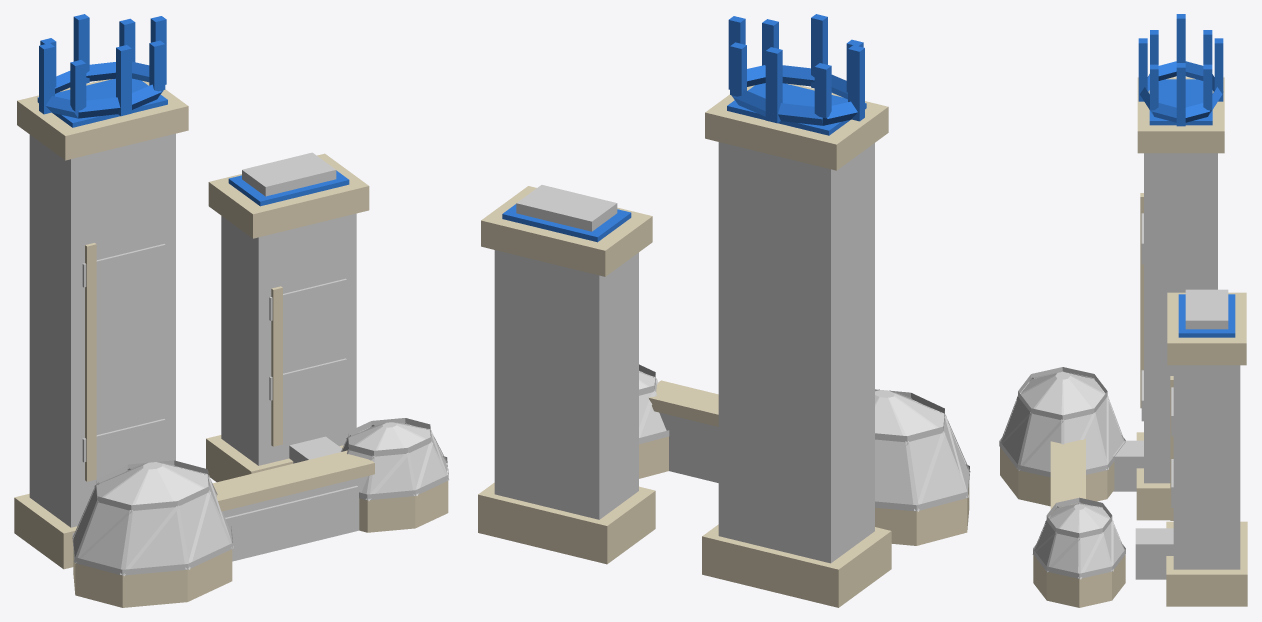
The model's file is space_capital_crown.glb.
3 renders of one model, left to right at view 1: azimuth 30°, elevation 25°; view 2: azimuth 150°, elevation 25°; view 3: azimuth 270°, elevation 25°, orthographic. The views are drawn at different scales.
Parts seen in each view (by area): view 1: WoodBody, FixedDetails, BrassTrim; view 2: WoodBody, FixedDetails, BrassTrim; view 3: WoodBody, FixedDetails, BrassTrim.
Boxes of the visible parts, x1=… form: WoodBody: x1=29, y1=133, x2=449, y2=576; FixedDetails: x1=14, y1=79, x2=448, y2=607; BrassTrim: x1=37, y1=14, x2=349, y2=206; WoodBody: x1=494, y1=142, x2=970, y2=563; FixedDetails: x1=478, y1=83, x2=969, y2=607; BrassTrim: x1=502, y1=14, x2=866, y2=242; WoodBody: x1=999, y1=153, x2=1240, y2=579; FixedDetails: x1=1000, y1=77, x2=1247, y2=607; BrassTrim: x1=1138, y1=14, x2=1235, y2=337.
Bounding box in the file's own units: 0.3973 × 0.4996 × 0.249.
